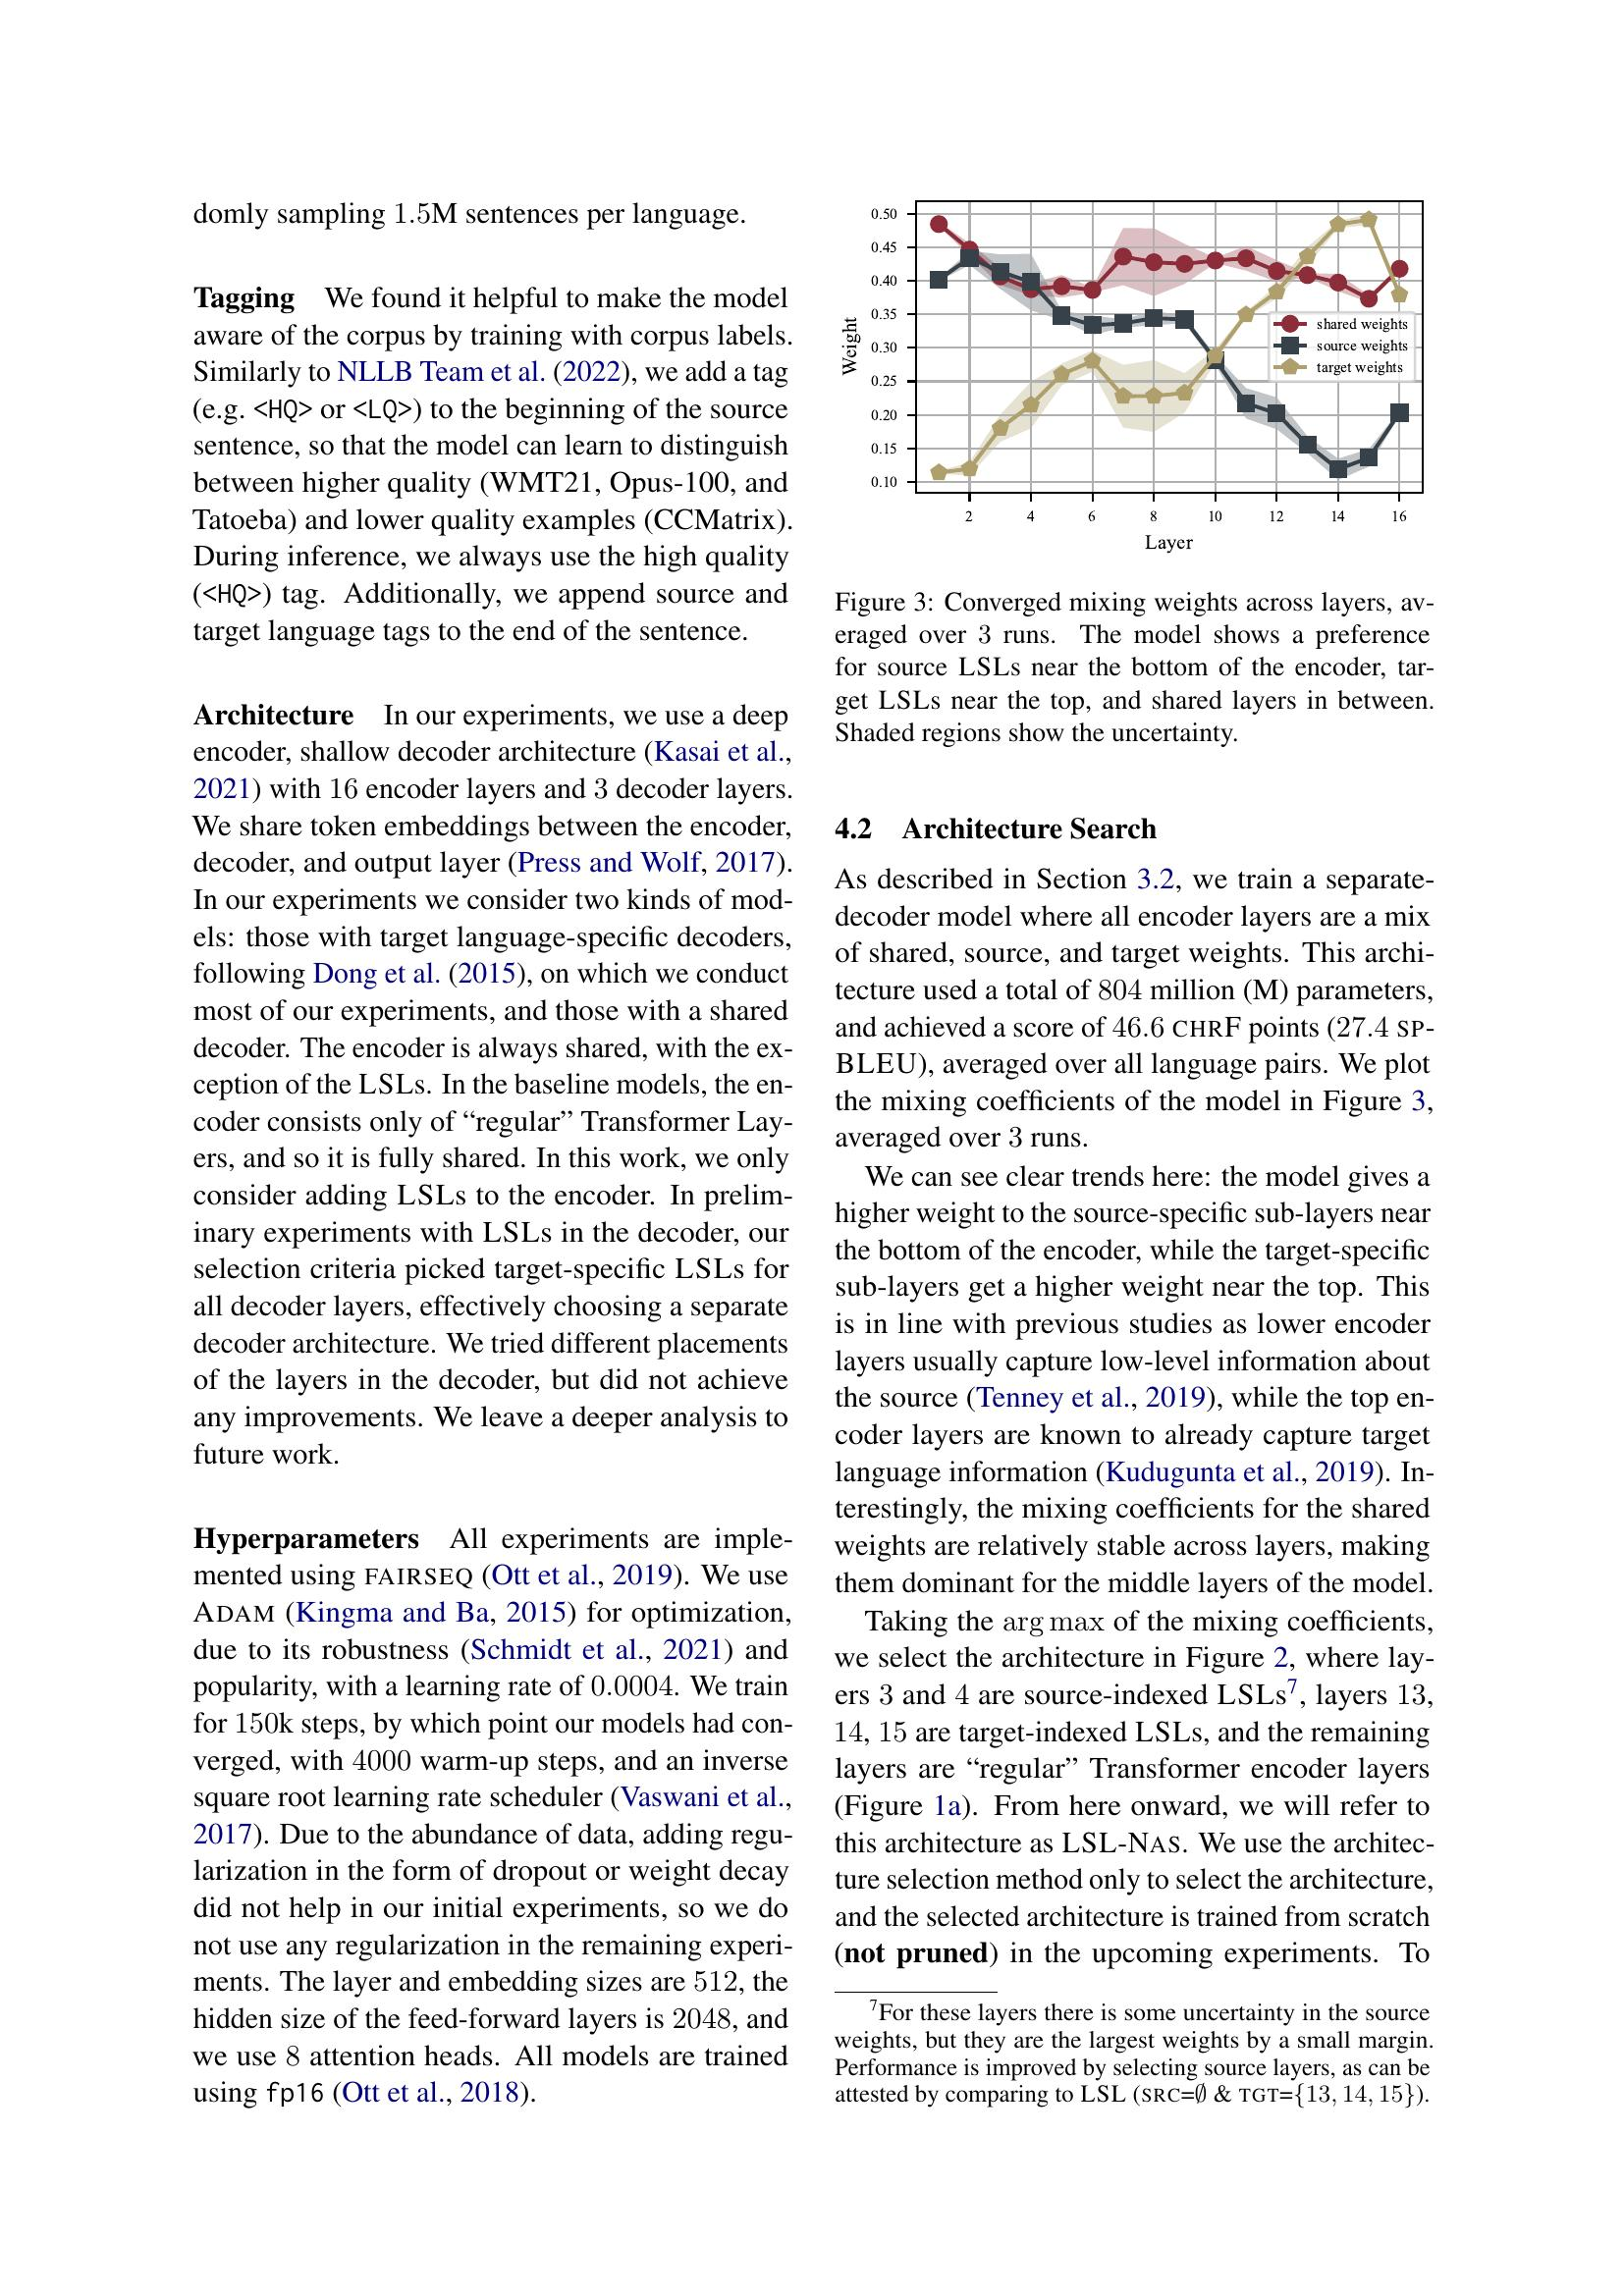figure: (824, 190, 1445, 757)
text: (823, 806, 1443, 1980), (185, 696, 798, 1483), (185, 1514, 800, 2113), (185, 188, 801, 659)
